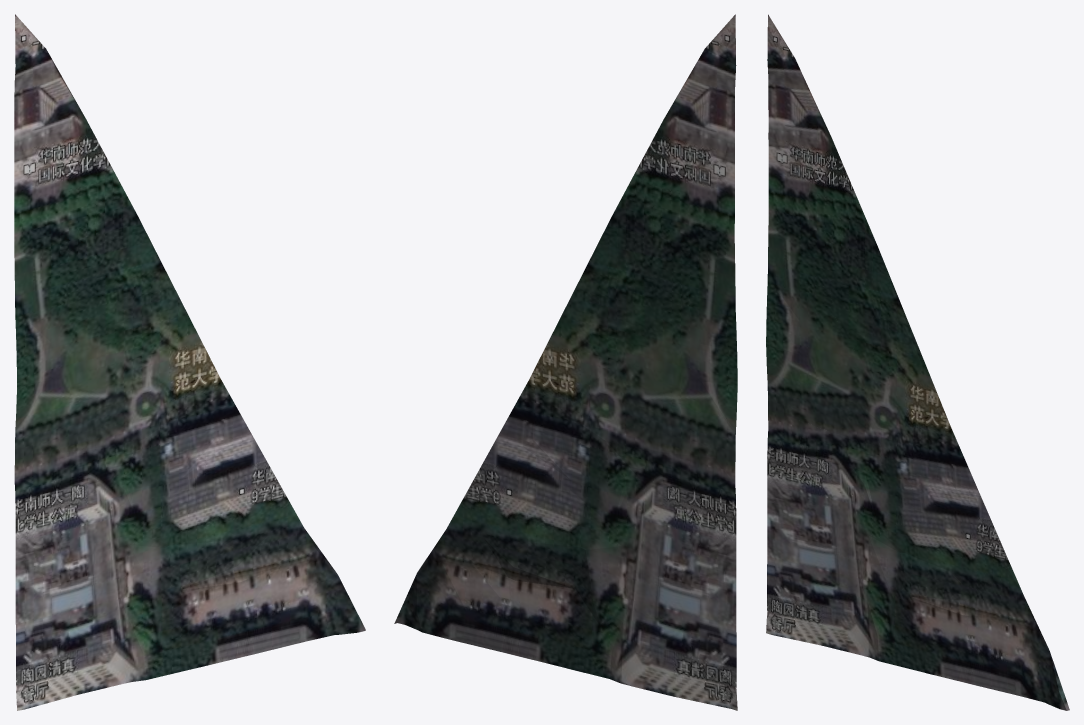
3 renders of one model, left to right at view 1: azimuth 30°, elevation 25°; view 2: azimuth 150°, elevation 25°; view 3: azimuth 330°, elevation 25°, orthographic. The views are drawn at different scales.
Parts seen in each view (by area): view 1: 0_1_2_1_3_0; view 2: 0_1_2_1_3_0; view 3: 0_1_2_1_3_0.
Part boxes in pixels (<box>): 0_1_2_1_3_0: <box>14,14,365,710</box>; 0_1_2_1_3_0: <box>394,14,737,710</box>; 0_1_2_1_3_0: <box>766,14,1069,710</box>.
Bounding box in the file's own units: 168 × 322 × 6.84.
Materials: 1 (1 with a texture image).
